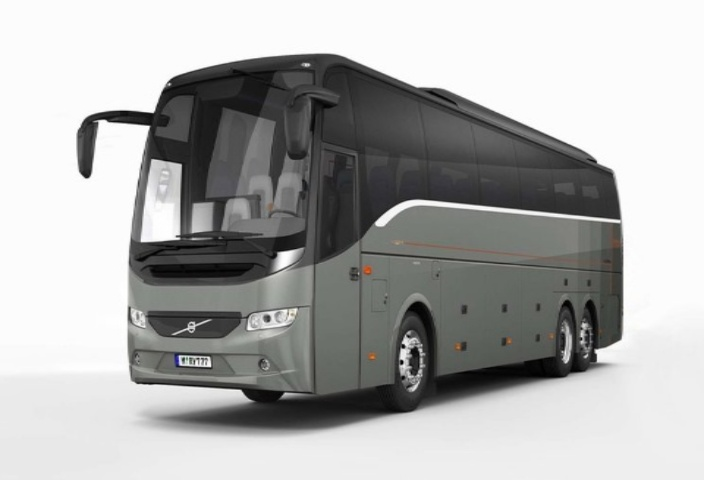bus: (48, 46, 632, 423)
